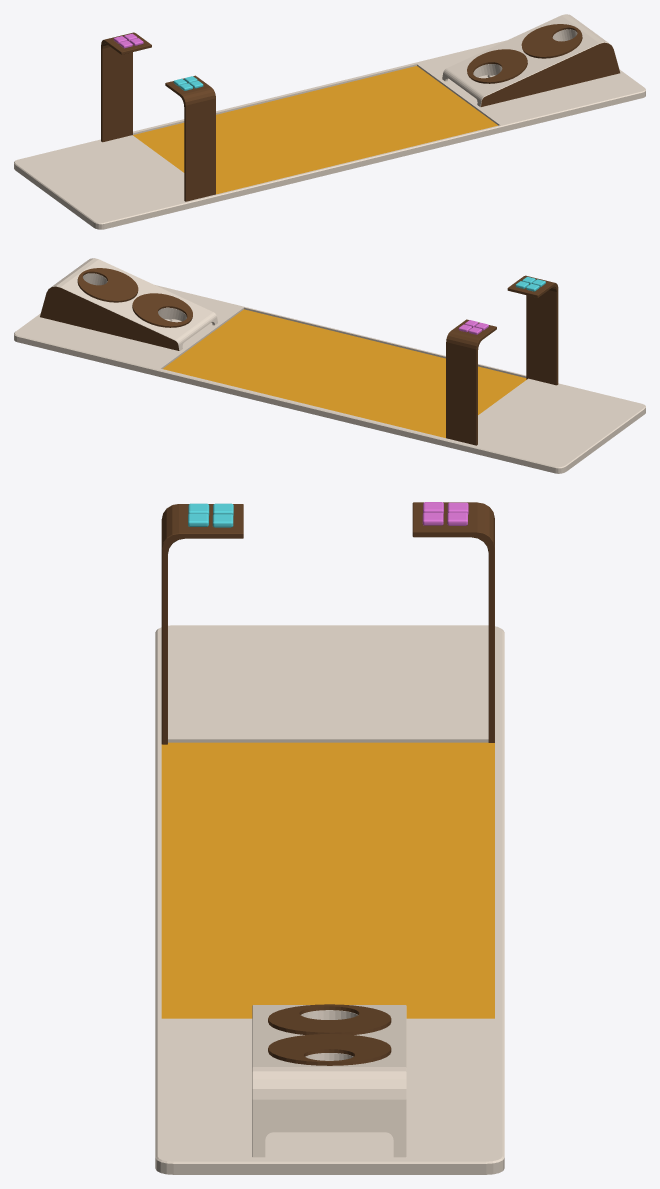
Rendered from toybox_beanbag_realsize_03_mesh.fbx.
3 views of the same model, one above another, from view 1: azimuth 30°, elevation 25°; view 2: azimuth 150°, elevation 25°; view 3: azimuth 270°, elevation 25° (orthographic). The views are drawn at different scales.
Visible parts, largest first — view 1: Cube.051, Cube.039, Cube.002, Cube.052, Cube.046, Cylinder.002; view 2: Cube.051, Cube.039, Cube.002, Cube.046, Cube.052, Cylinder.002; view 3: Cube.051, Cube.039, Cube.002, Cylinder.002, Cube.046, Cube.052.
Boxes of the visible parts, <box> form: Cube.051: <box>133,66,497,194</box>; Cube.039: <box>14,40,645,229</box>; Cube.002: <box>442,14,620,107</box>; Cube.052: <box>165,75,215,201</box>; Cube.046: <box>101,32,151,142</box>; Cylinder.002: <box>467,24,582,83</box>; Cube.051: <box>163,309,526,437</box>; Cube.039: <box>14,285,645,473</box>; Cube.002: <box>40,258,217,350</box>; Cube.046: <box>446,319,496,445</box>; Cube.052: <box>507,275,558,385</box>; Cylinder.002: <box>77,268,192,327</box>; Cube.051: <box>161,742,494,1018</box>; Cube.039: <box>155,625,504,1174</box>; Cube.002: <box>252,1005,406,1157</box>; Cylinder.002: <box>268,1004,391,1065</box>; Cube.046: <box>412,502,494,742</box>; Cube.052: <box>161,504,243,744</box>.
Bounding box in the file's own units: 568 × 112 × 156.
